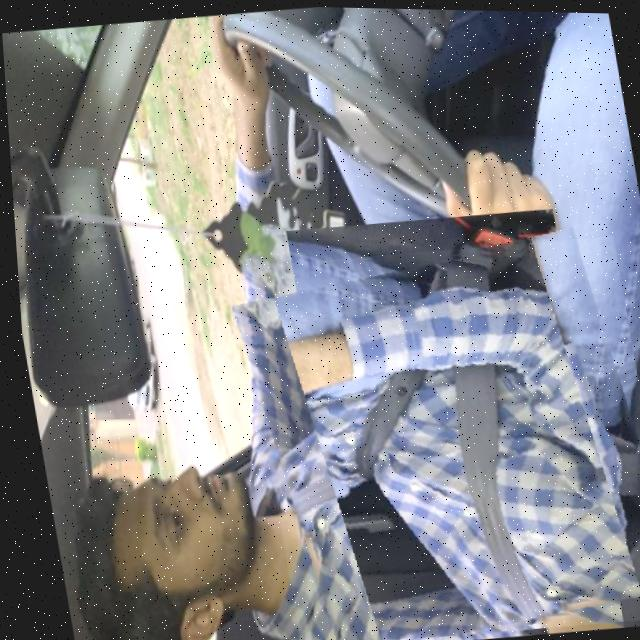seatbelt: (230, 225, 640, 640)
